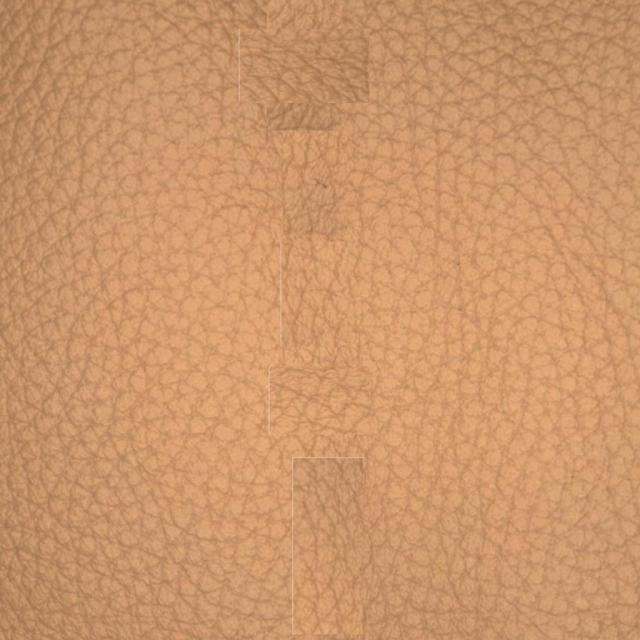Healed Injury: (250, 329, 429, 569), (229, 21, 396, 254)
